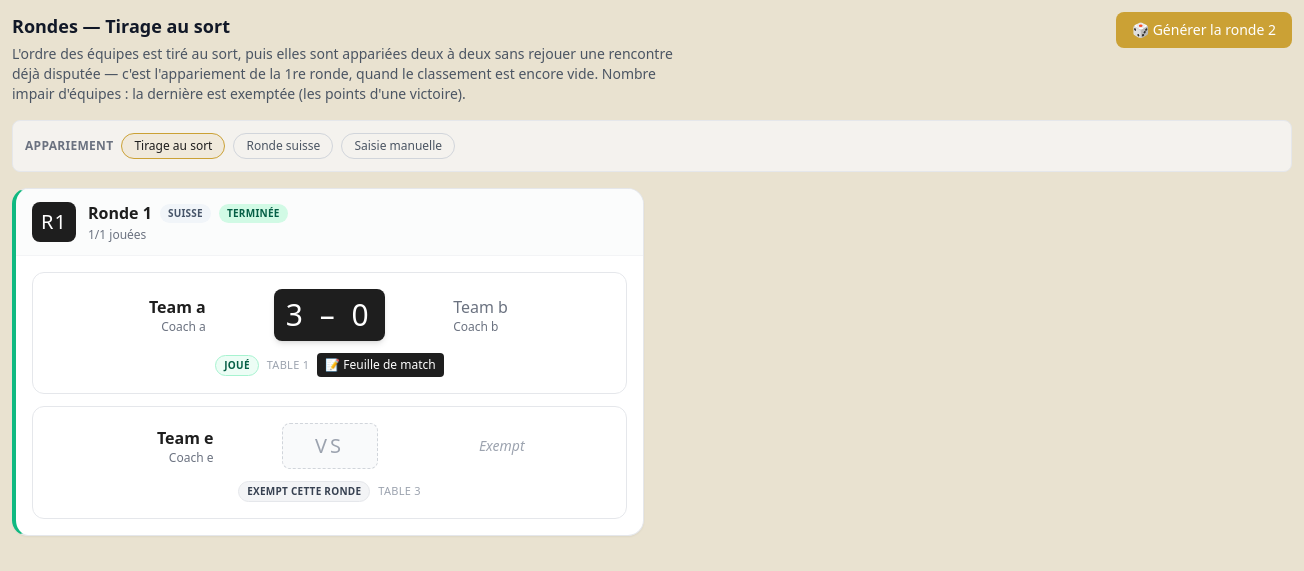
CupRoundsView › le bandeau suit le système d'appariement sélectionné
Expected: the heading with test id "cup-rounds-title" shows "Tirage au sort", [12,14,230,38]
Expected: the text with test id "cup-rounds-description" shows "tiré au sort", [12,44,673,103]
Click the radio button with test id "cup-round-system-swiss" at x=283, y=146, box [234,133,333,159]
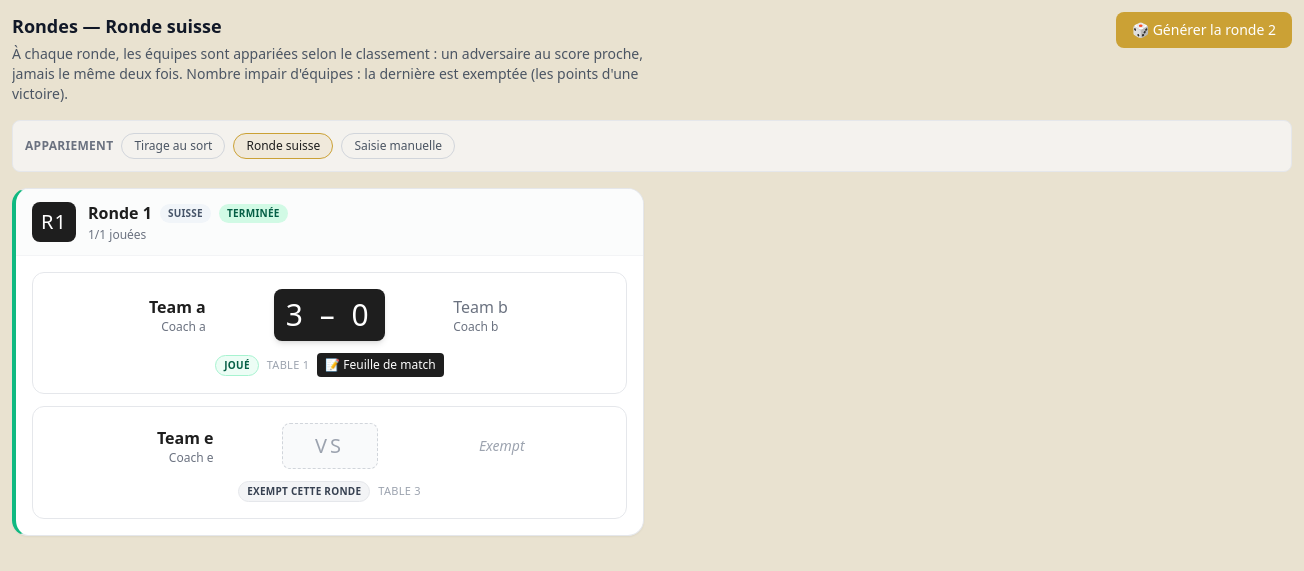
Expected: the heading with test id "cup-rounds-title" shows "Ronde suisse", [12,14,222,38]
Expected: the text with test id "cup-rounds-description" shows "selon le classement", [12,44,643,103]
Click the radio button with test id "cup-round-system-manual" at x=398, y=146, box [341,133,455,159]
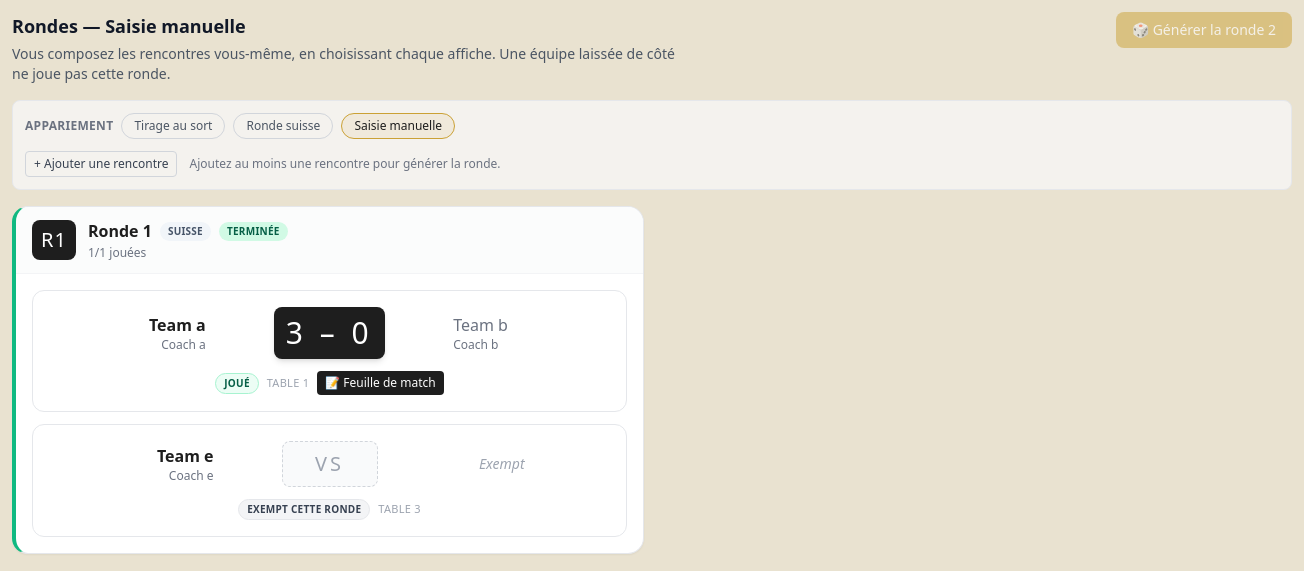
Expected: the heading with test id "cup-rounds-title" shows "Saisie manuelle", [12,14,246,38]
Expected: the text with test id "cup-rounds-description" shows "vous-même", [12,44,675,83]
